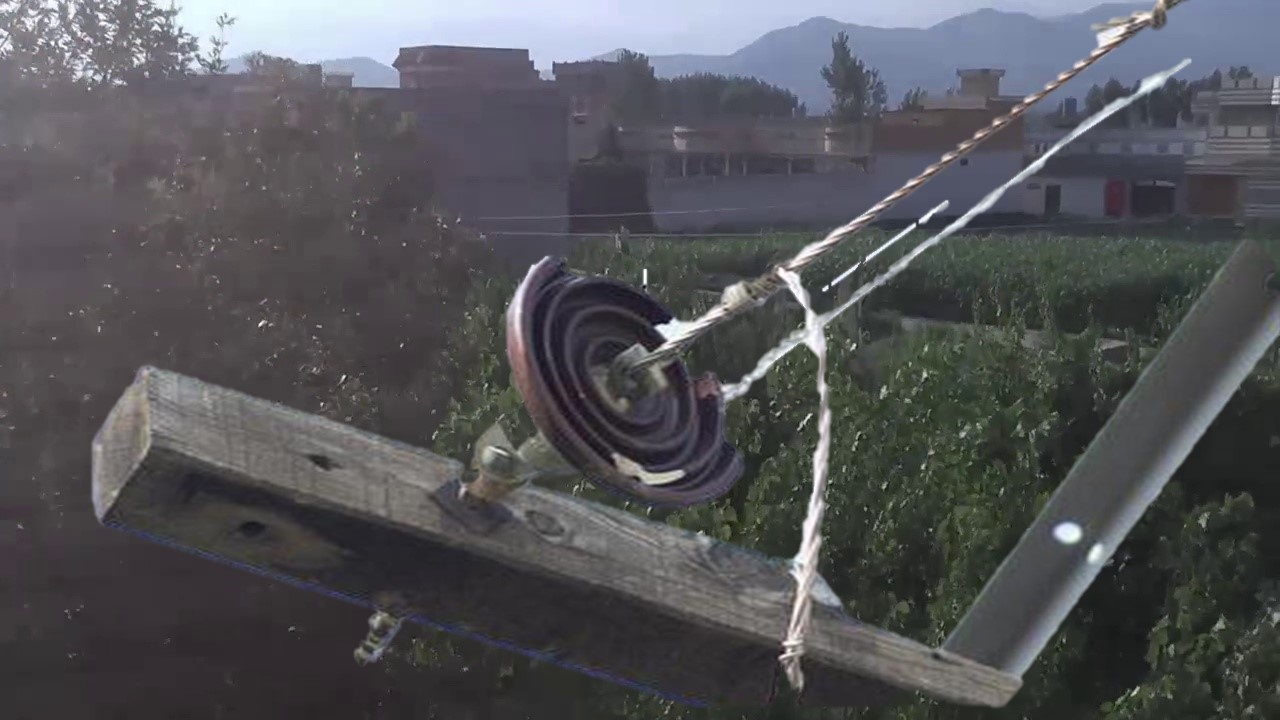defect_disc: (499, 243, 757, 515)
